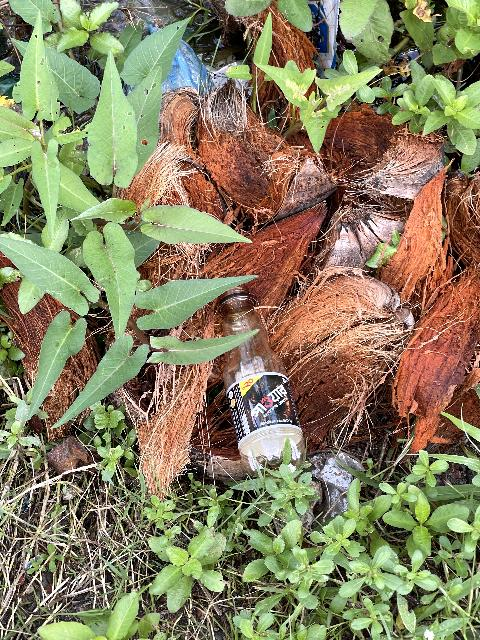bottle: (219, 292, 302, 489)
